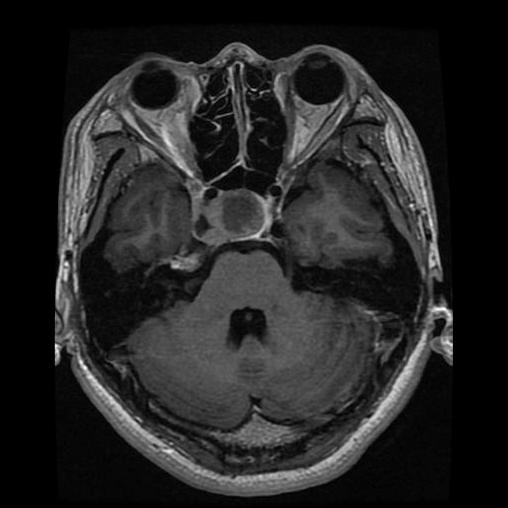Tumour-Pituitary: (211, 192, 281, 249)
